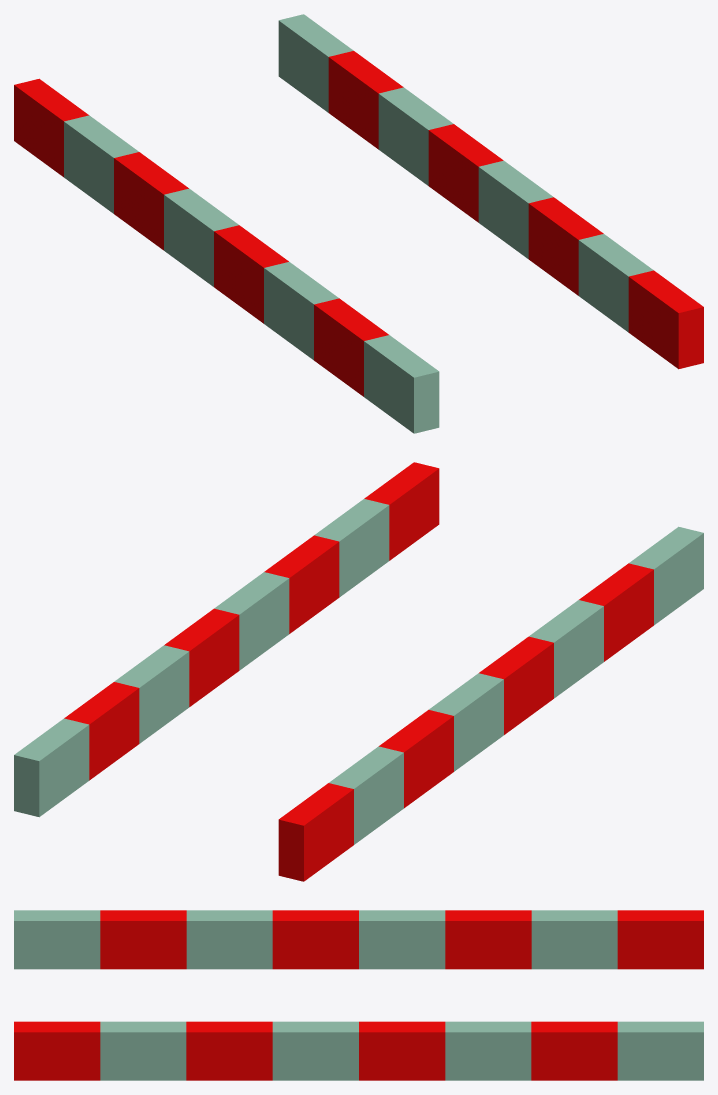
The model's file is BarrerasRoadStratPosition.fbx.
The picture shows the model from 3 angles, top to bottom: view 1: azimuth 30°, elevation 25°; view 2: azimuth 150°, elevation 25°; view 3: azimuth 270°, elevation 25°; orthographic projection. The views are drawn at different scales.
Visible parts, largest first — view 1: roadStartPositions.003, roadStartPositions.001; view 2: roadStartPositions.001, roadStartPositions.003; view 3: roadStartPositions.001, roadStartPositions.003.
Boxes of the visible parts, bbox=[...] form: roadStartPositions.003: bbox=[64, 14, 653, 433]; roadStartPositions.001: bbox=[14, 51, 703, 396]; roadStartPositions.001: bbox=[64, 462, 653, 881]; roadStartPositions.003: bbox=[14, 499, 703, 844]; roadStartPositions.001: bbox=[14, 910, 703, 1080]; roadStartPositions.003: bbox=[14, 910, 703, 1080].
Bounding box in the file's own units: 83.67 × 15.46 × 200.
